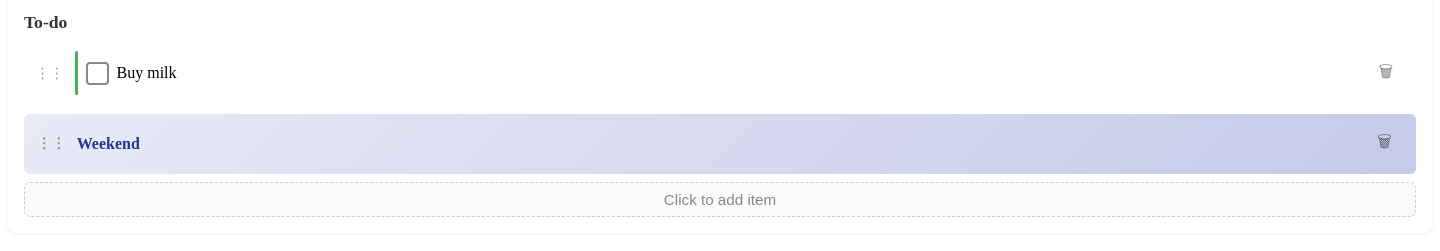
TodoList delete flow › deletes the item after confirming
This screenshot has width=1440, height=251.
Expected: the button "Buy milk" is shown, [116, 64, 176, 81]
Click the button named "Delete": (1386, 73) [1364, 51, 1408, 95]
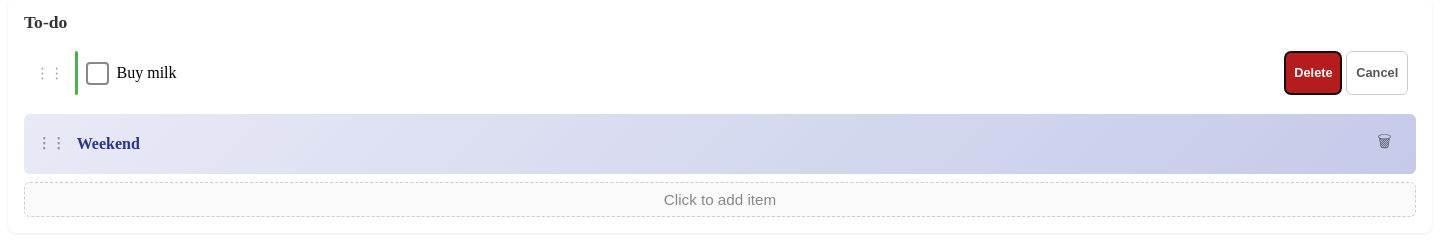
Click the button with aria-label "Confirm delete": (1313, 73) [1284, 51, 1342, 95]
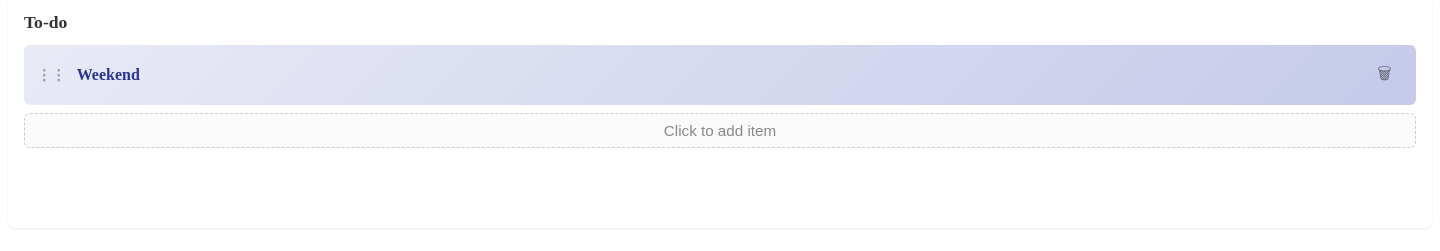
Expected: the button "Buy milk" is gone
